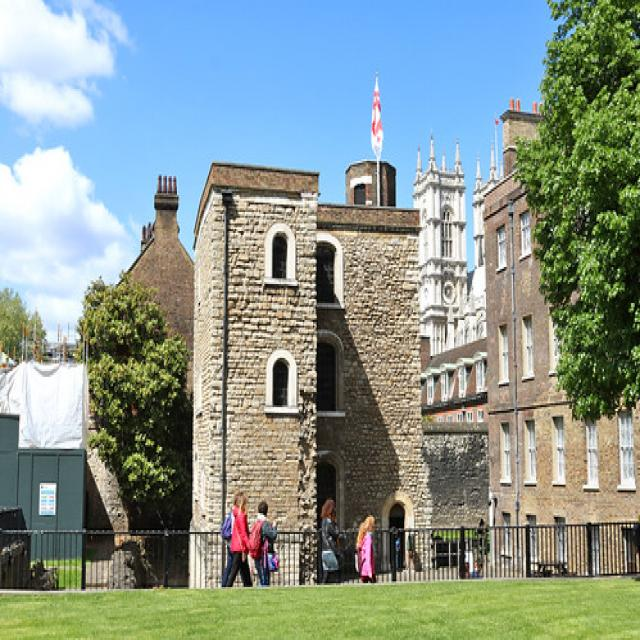Normal_building: (187, 155, 427, 591)
